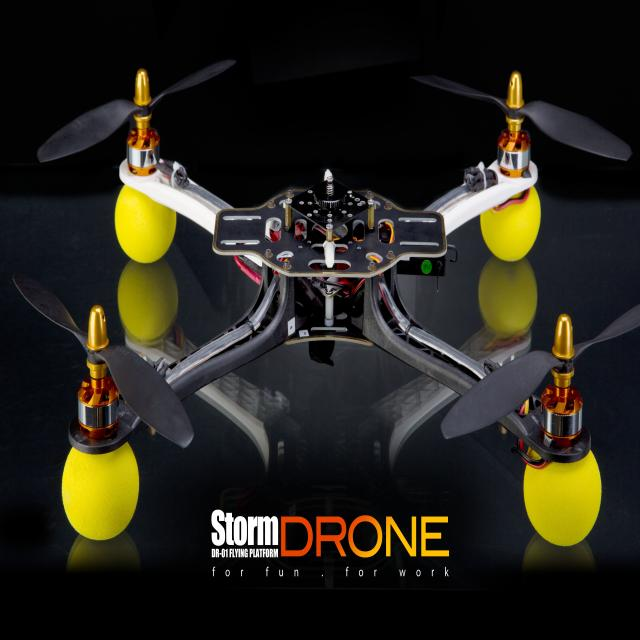drone: (8, 47, 640, 558)
